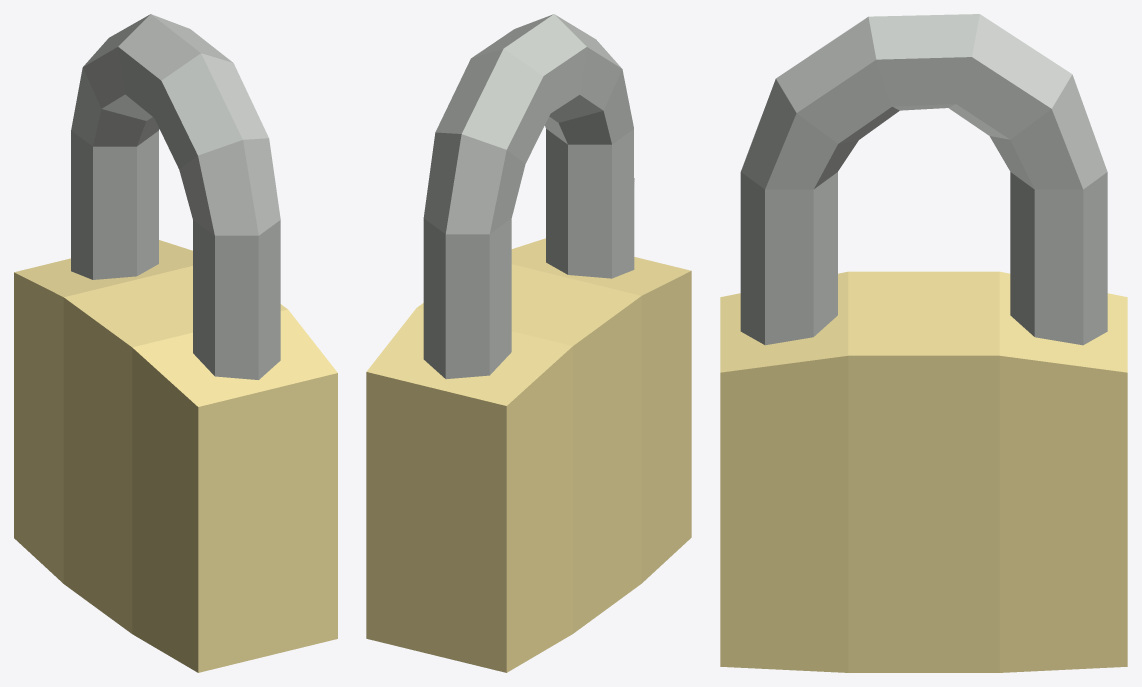
Rendered from padlock.fbx.
3 renders of one model, left to right at view 1: azimuth 30°, elevation 25°; view 2: azimuth 150°, elevation 25°; view 3: azimuth 270°, elevation 25°, orthographic. The views are drawn at different scales.
Visible parts, largest first — view 1: Cylinder.001; view 2: Cylinder.001; view 3: Cylinder.001.
Part boxes in pixels (bbox=[...]): Cylinder.001: bbox=[14, 14, 337, 672]; Cylinder.001: bbox=[366, 14, 691, 672]; Cylinder.001: bbox=[720, 14, 1127, 672].
Bounding box in the file's own units: 87.62 × 300 × 179.
